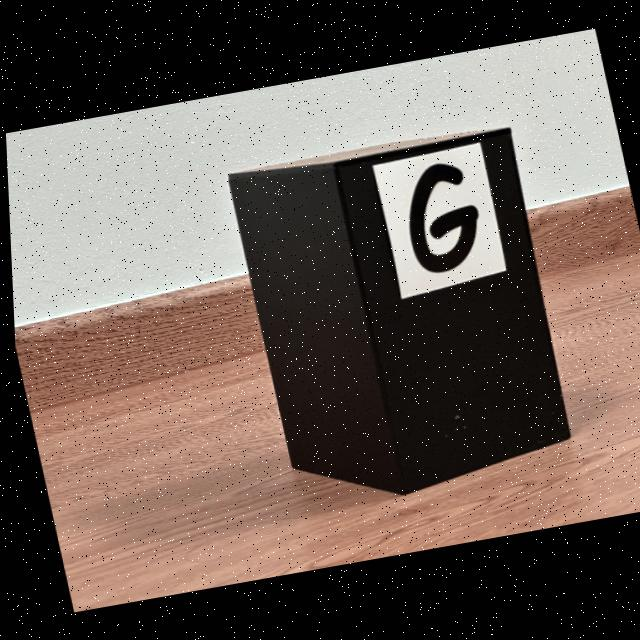G: (407, 163, 476, 272)
